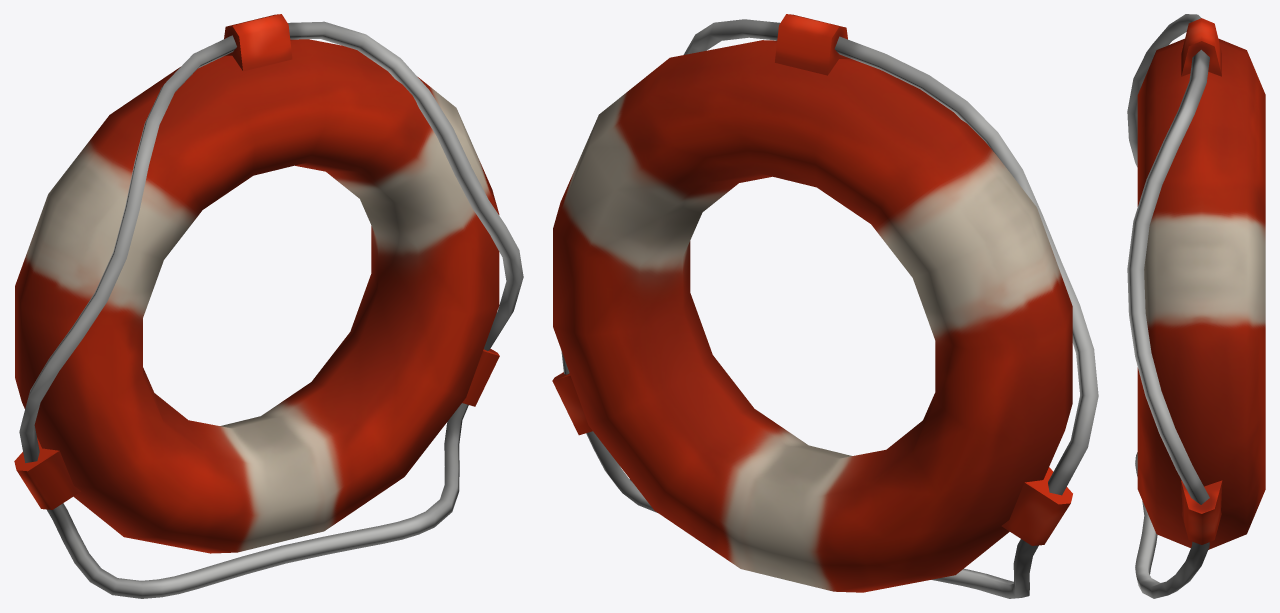
Rendered from lifebuoy.fbx.
3 views of the same model, side by side, from view 1: azimuth 30°, elevation 25°; view 2: azimuth 150°, elevation 25°; view 3: azimuth 270°, elevation 25° (orthographic). The views are drawn at different scales.
Visible parts, largest first — view 1: Lifebuoy; view 2: Lifebuoy; view 3: Lifebuoy.
Boxes of the visible parts, x1,y1,x2,y2 form: Lifebuoy: [14, 14, 523, 598]; Lifebuoy: [552, 14, 1098, 598]; Lifebuoy: [1127, 14, 1265, 598].
Size of the model in its own units: 32.81 by 8.33 by 33.07.
